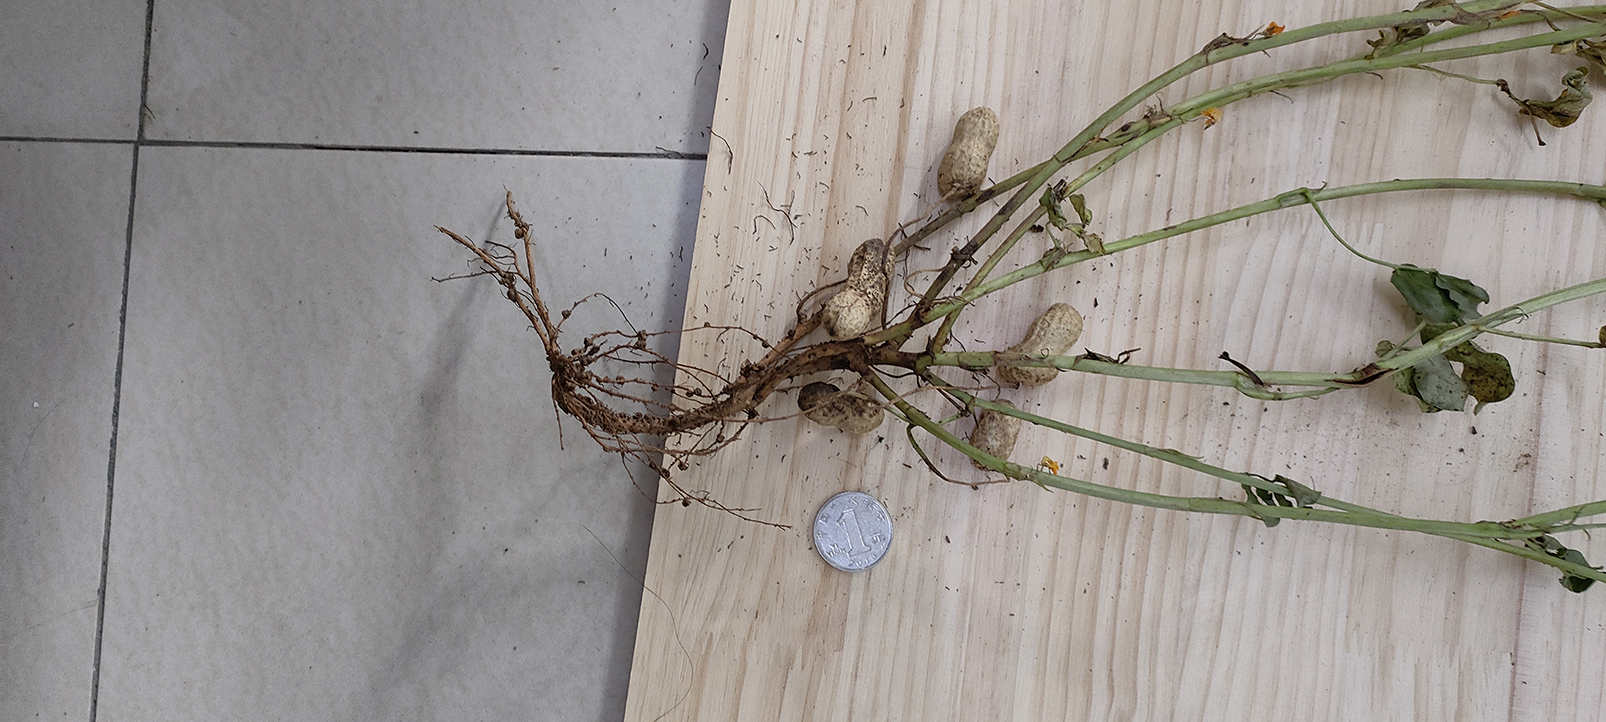h: (822, 237, 894, 339), (997, 302, 1084, 386), (936, 107, 1000, 200), (967, 398, 1020, 468)
l: (798, 381, 884, 433)
